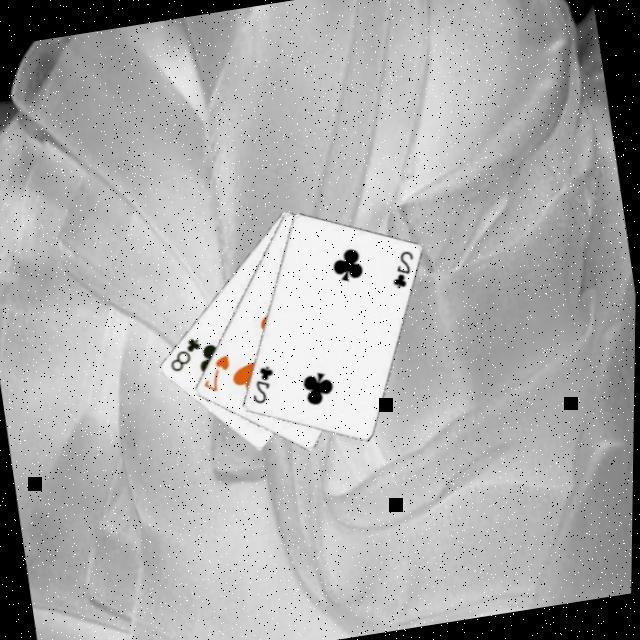2C: (387, 245, 424, 291), (248, 361, 284, 407)
7H: (199, 349, 240, 396)
8C: (166, 333, 209, 375)
